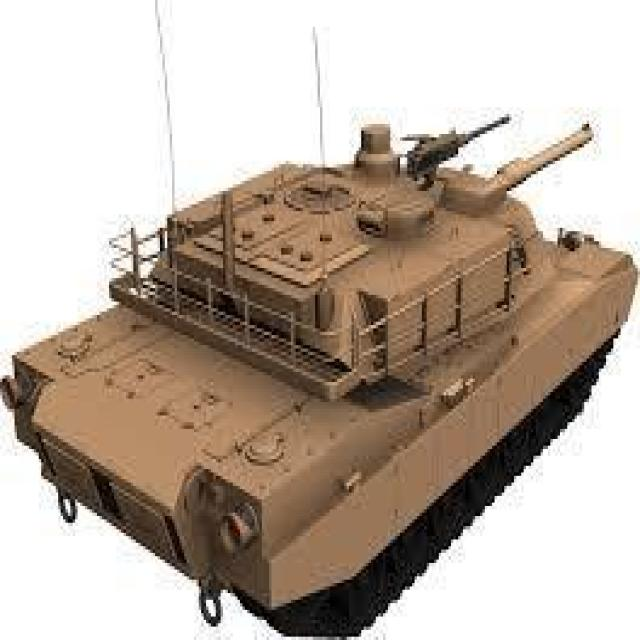Tanks: (6, 116, 639, 628)
